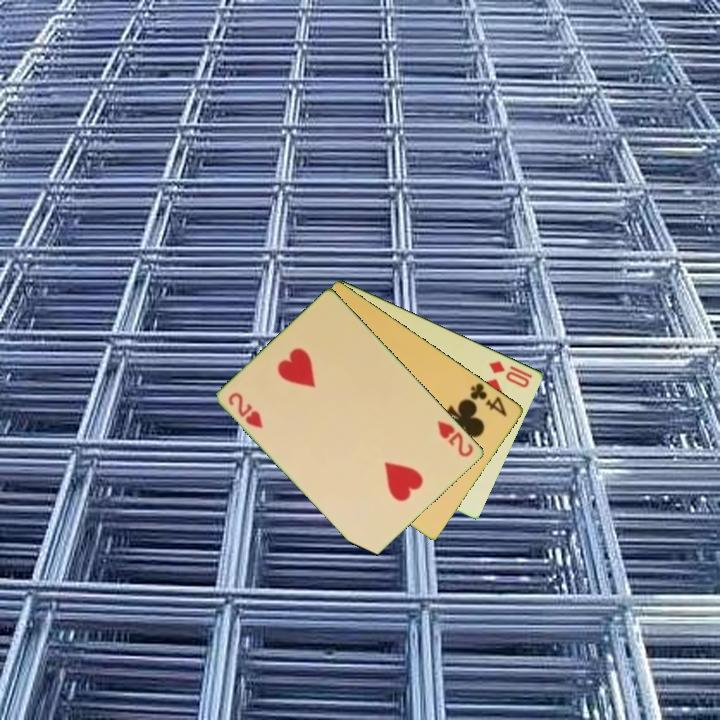10d: (486, 357, 533, 391)
2h: (434, 417, 477, 460), (225, 389, 266, 431)
4c: (467, 379, 510, 420)
